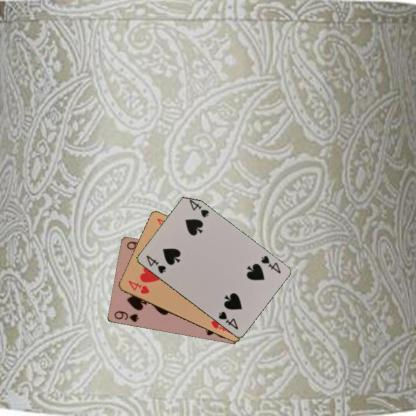4h: (126, 278, 150, 296)
4s: (143, 252, 167, 275), (258, 253, 282, 275)
9s: (111, 308, 140, 324)
